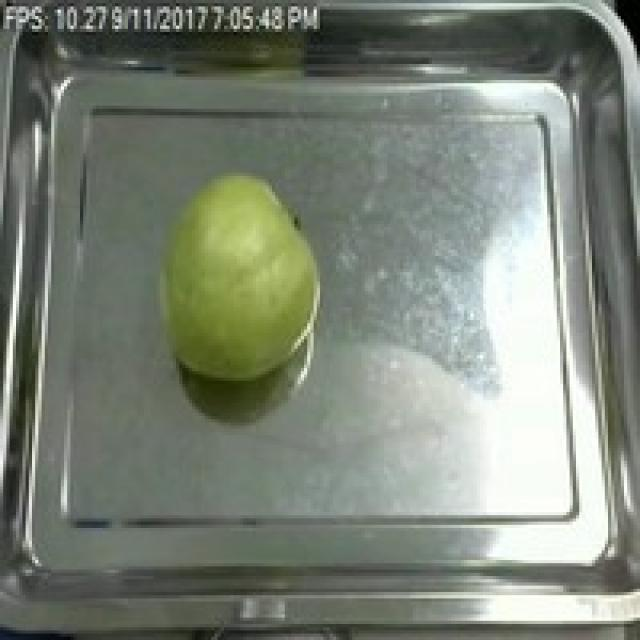Fruit: (144, 163, 330, 394)
